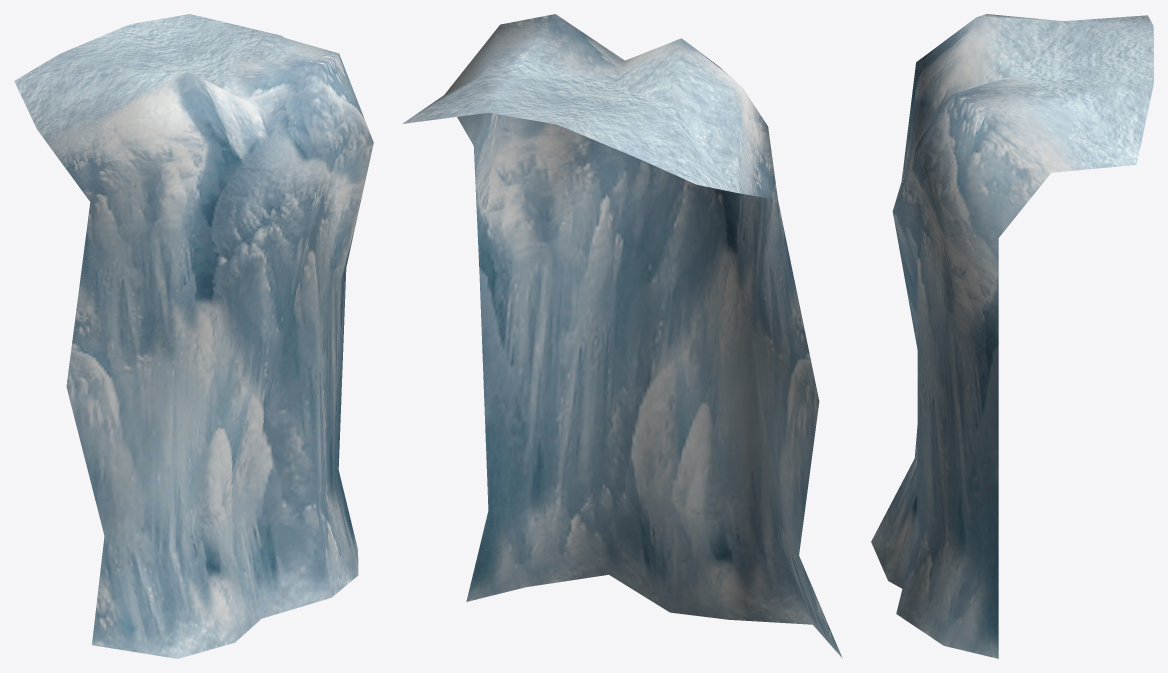
The picture shows the model from 3 angles, left to right: view 1: azimuth 30°, elevation 25°; view 2: azimuth 150°, elevation 25°; view 3: azimuth 270°, elevation 25°; orthographic projection. The views are drawn at different scales.
Parts seen in each view (by area): view 1: wj44; view 2: wj44; view 3: wj44.
Boxes of the visible parts, x1=… form: wj44: x1=14, y1=14, x2=373, y2=658; wj44: x1=402, y1=14, x2=842, y2=658; wj44: x1=871, y1=14, x2=1153, y2=658.
Bounding box in the file's own units: 924 × 1587 × 723.
1 material, 1 textured.
